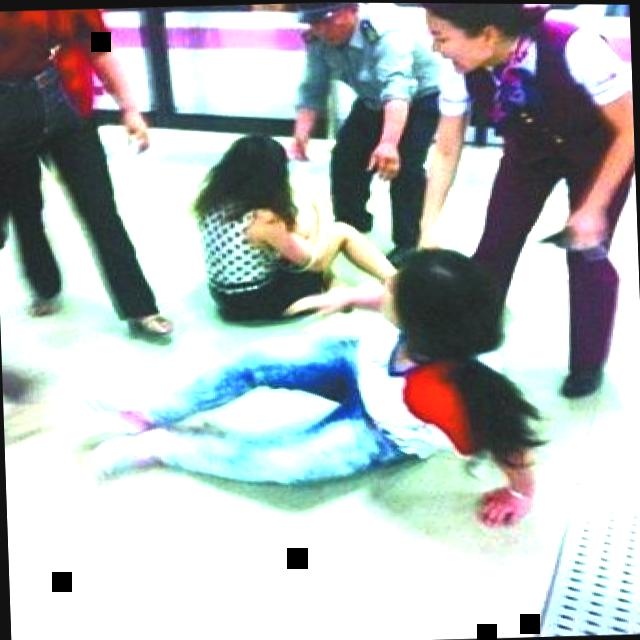Fall-Detected: (60, 246, 542, 519)
